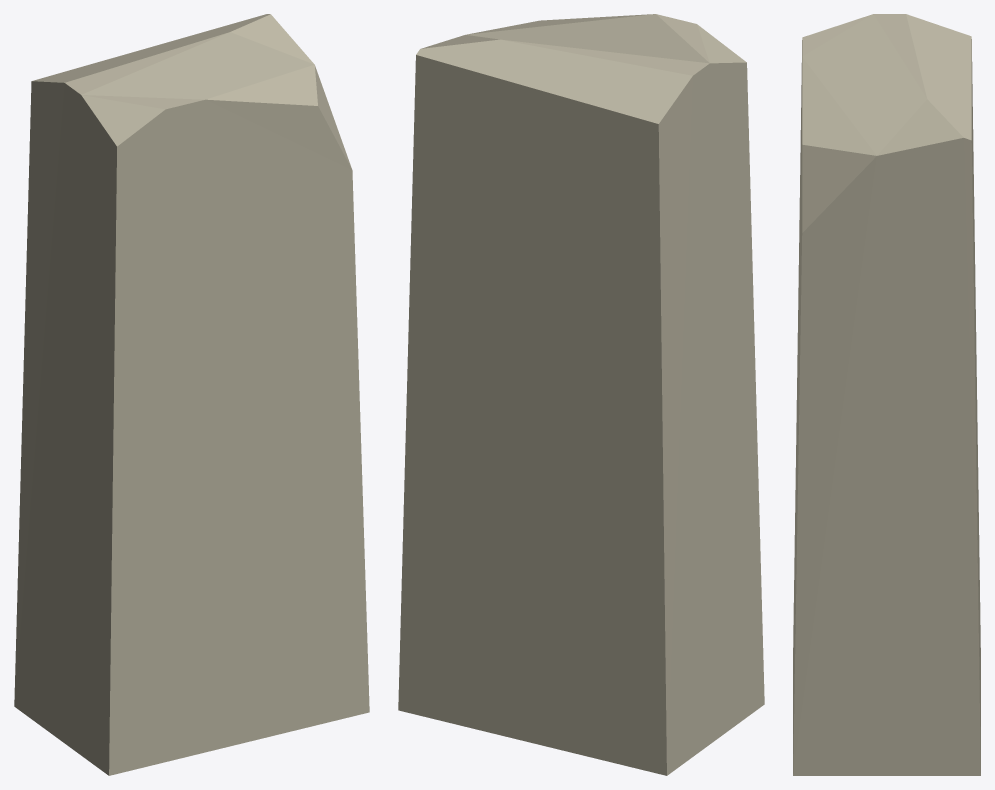
The model's file is Stonehenge_06.fbx.
3 views of the same model, side by side, from view 1: azimuth 30°, elevation 25°; view 2: azimuth 150°, elevation 25°; view 3: azimuth 270°, elevation 25° (orthographic). The views are drawn at different scales.
Visible parts, largest first — view 1: Stonehenge_06; view 2: Stonehenge_06; view 3: Stonehenge_06.
Boxes of the visible parts, x1=… form: Stonehenge_06: x1=14, y1=14, x2=369, y2=775; Stonehenge_06: x1=398, y1=14, x2=764, y2=775; Stonehenge_06: x1=793, y1=14, x2=980, y2=775.
Size of the model in its own units: 210 by 500 by 132.
